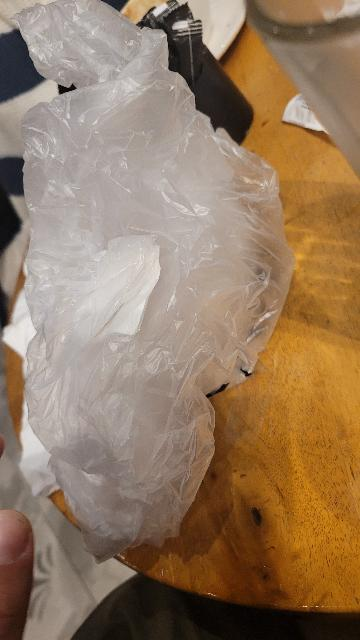Plastik: (5, 0, 298, 562)
